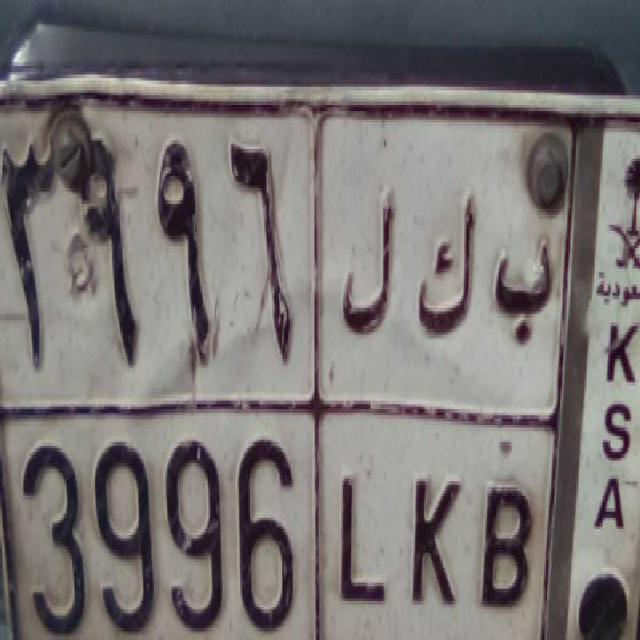license_plate: (11, 387, 538, 640)
